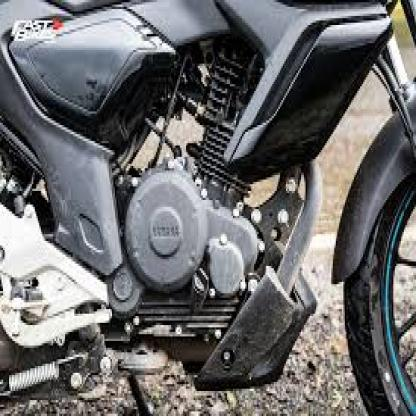bike: (1, 0, 415, 413)
